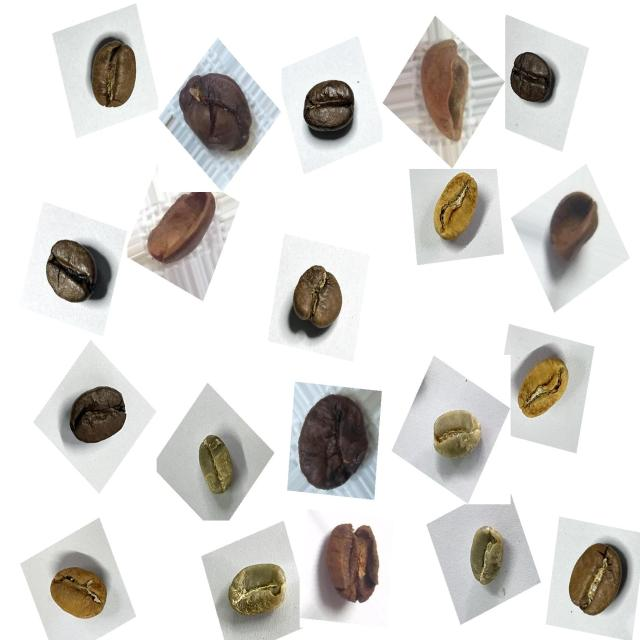bad: (288, 386, 380, 503), (174, 60, 262, 162), (408, 28, 482, 148), (316, 517, 391, 617), (140, 182, 219, 274), (538, 180, 610, 273)
dark: (36, 228, 112, 318), (60, 374, 134, 460), (292, 68, 363, 154), (502, 40, 564, 116)
green: (219, 548, 298, 633), (423, 398, 490, 477), (185, 425, 245, 506), (457, 516, 516, 598)
light: (507, 338, 581, 430), (41, 550, 117, 633), (420, 168, 491, 256)
medium: (558, 532, 638, 634), (281, 254, 357, 344), (76, 30, 148, 122)
